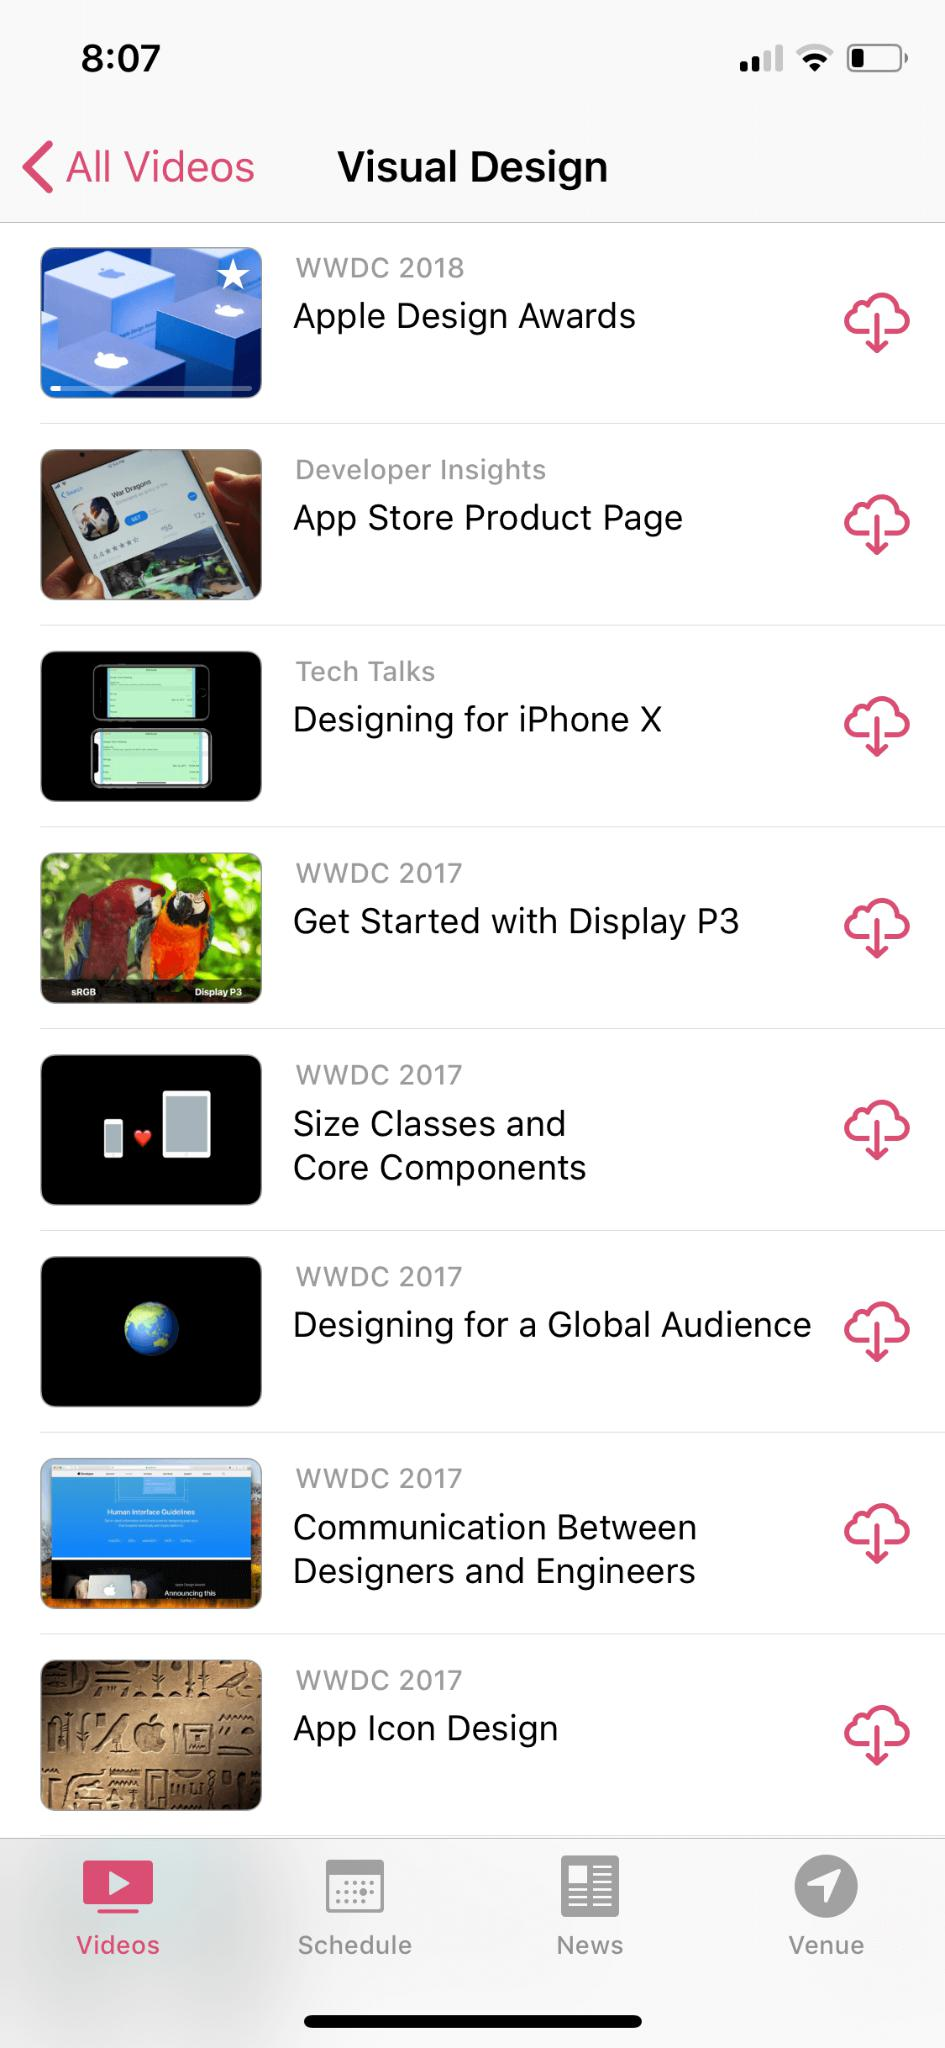Buttons: (14, 127, 265, 206), (831, 485, 916, 560), (834, 891, 918, 967), (837, 277, 912, 359), (834, 1698, 916, 1767), (834, 1499, 918, 1567), (841, 688, 916, 761), (839, 1091, 912, 1164), (839, 1296, 916, 1362)
